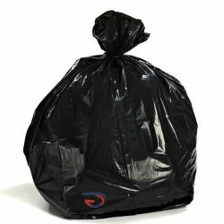plastic_bag: (7, 6, 205, 221)
